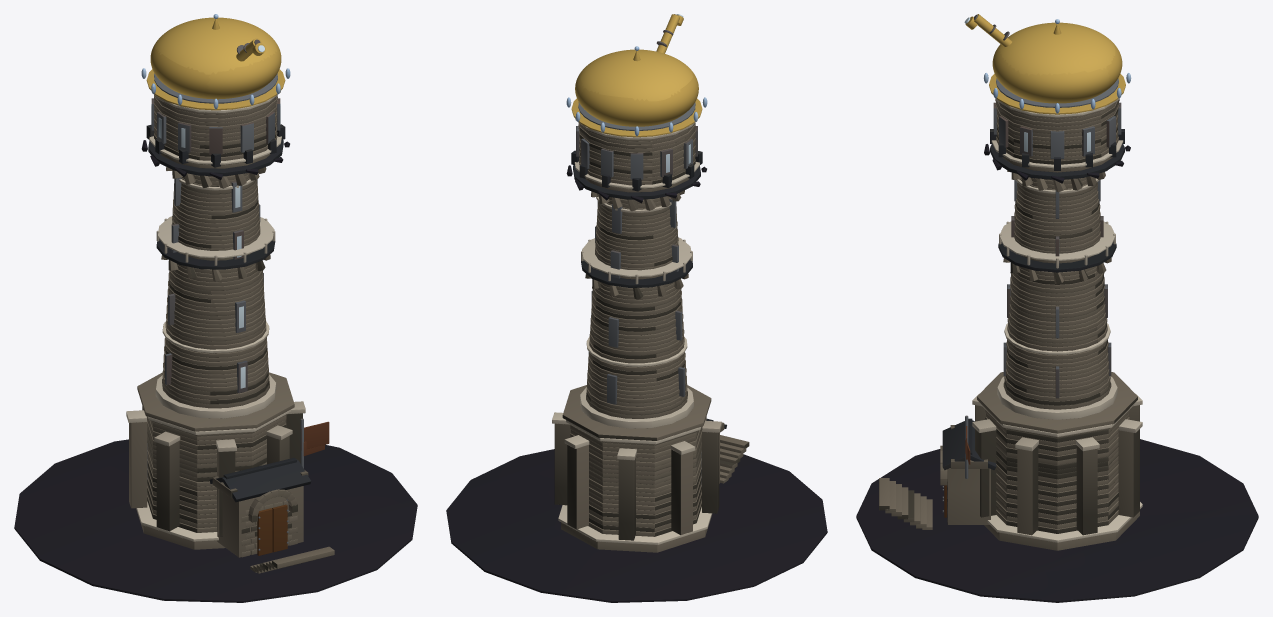
File: building_university_grand_observatory.fbx
3 views of the same model, side by side, from view 1: azimuth 30°, elevation 25°; view 2: azimuth 150°, elevation 25°; view 3: azimuth 270°, elevation 25° (orthographic). The views are drawn at different scales.
Parts seen in each view (by area): view 1: building_university_grand_observatory; view 2: building_university_grand_observatory; view 3: building_university_grand_observatory.
Boxes of the visible parts, left/top/right/bottom form: building_university_grand_observatory: left=14, top=14, right=417, bottom=602; building_university_grand_observatory: left=446, top=14, right=827, bottom=602; building_university_grand_observatory: left=856, top=14, right=1258, bottom=602.
Size of the model in its own units: 14.4 by 19.87 by 14.4.
